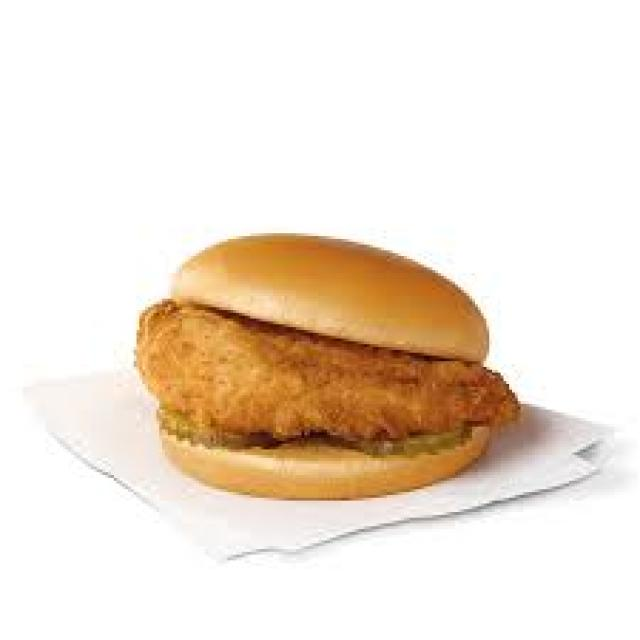Organik: (144, 218, 518, 484)
